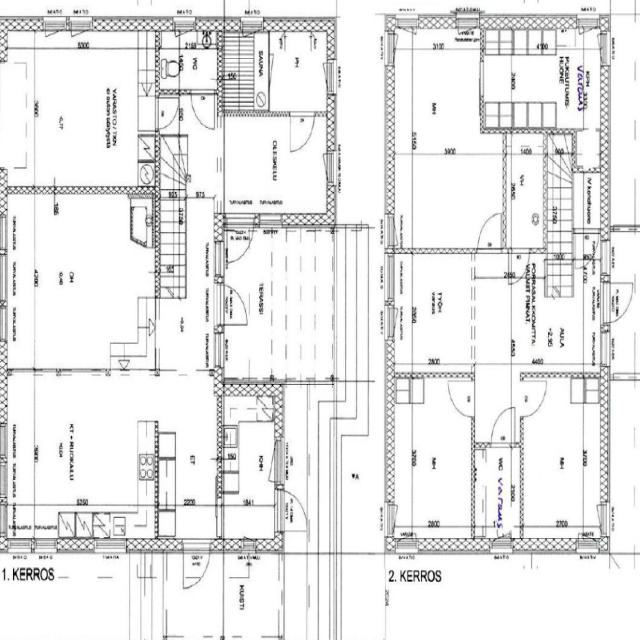door: (275, 489, 312, 532), (213, 285, 250, 325), (600, 283, 637, 323), (183, 539, 210, 593), (227, 214, 253, 268), (290, 111, 315, 152), (446, 381, 474, 417), (491, 406, 515, 448), (191, 89, 215, 130), (575, 228, 599, 268), (478, 212, 501, 253), (520, 381, 546, 416), (508, 248, 530, 285), (155, 98, 180, 128), (268, 54, 290, 85)
